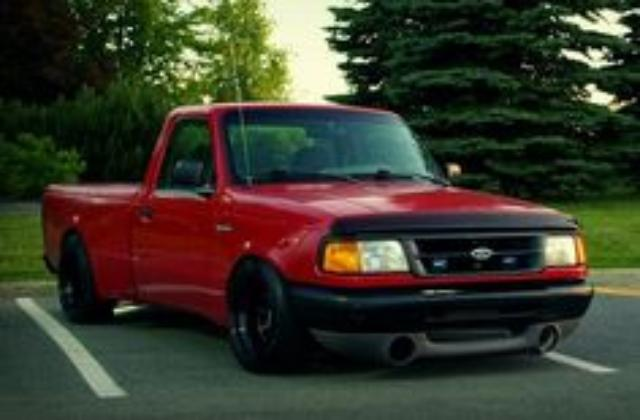pickup-truck: (39, 102, 595, 373)
